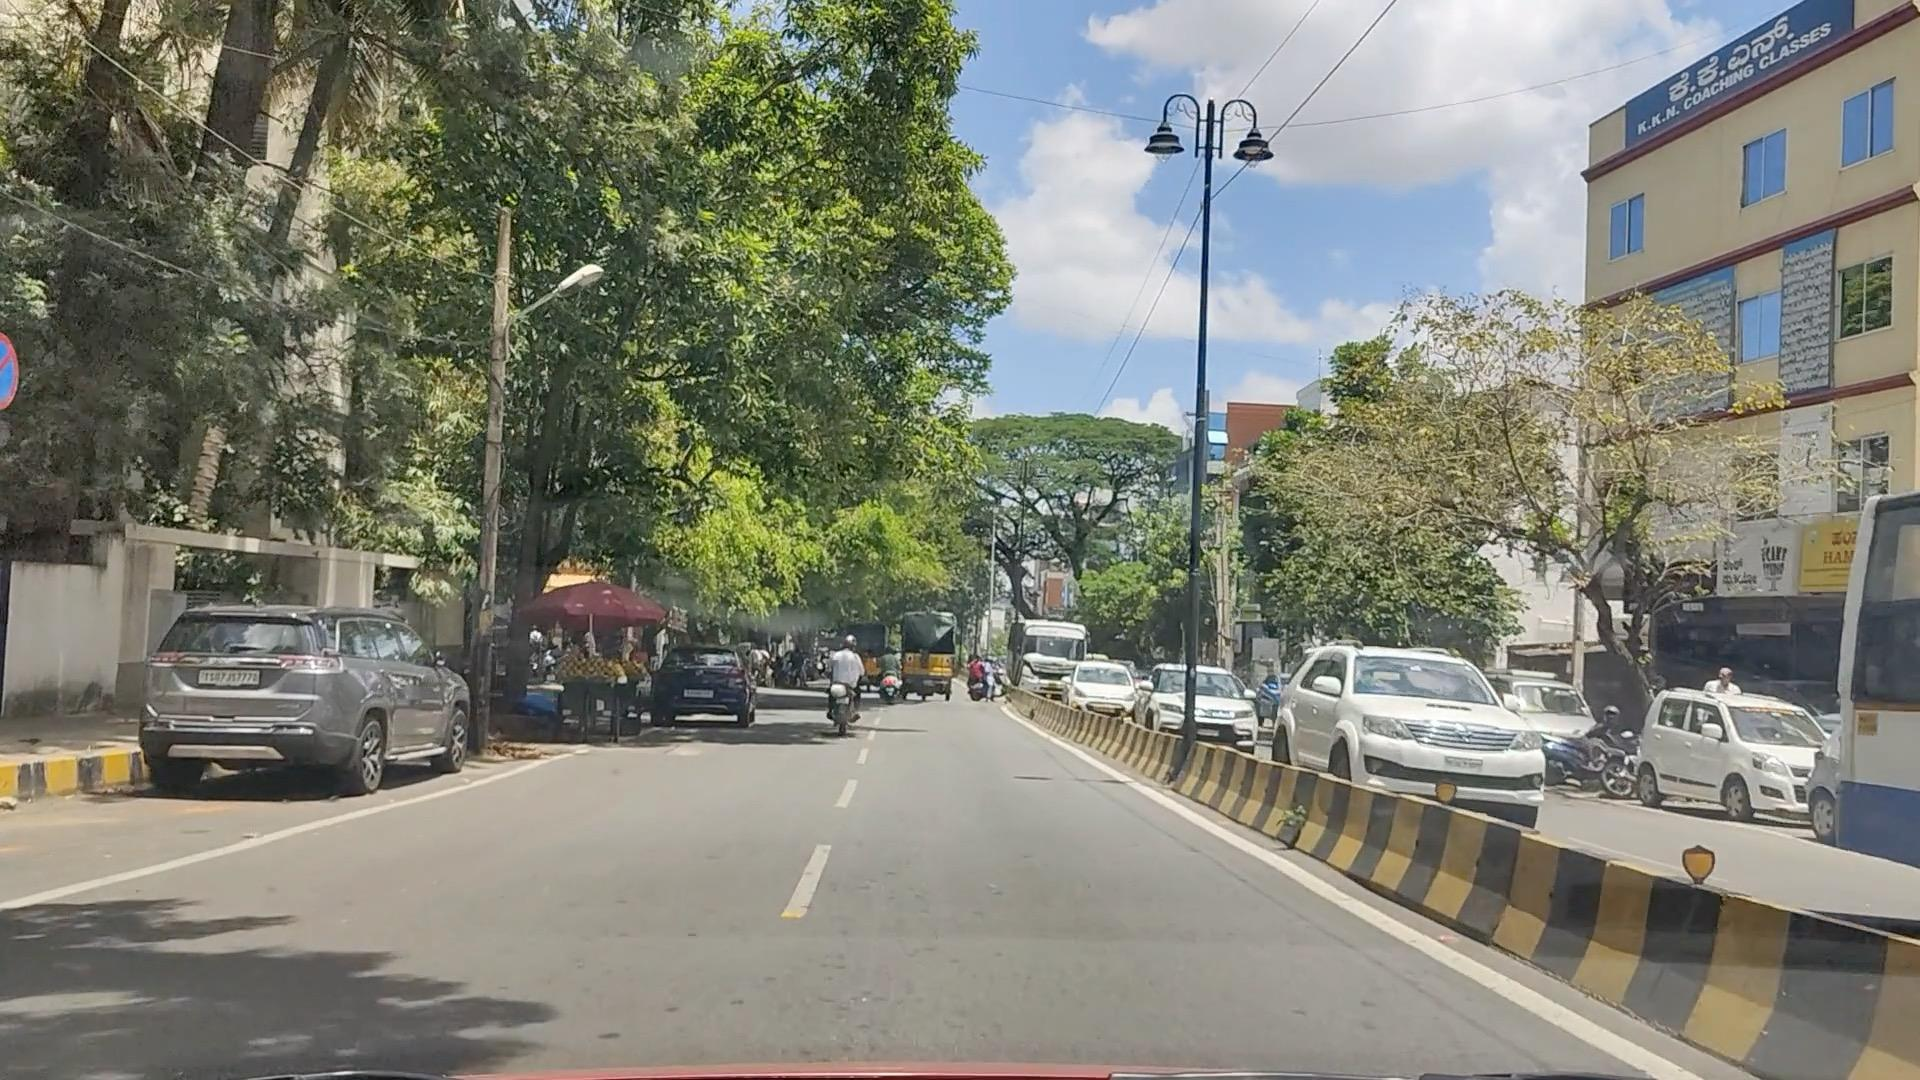LMV: (124, 600, 360, 762), (657, 650, 766, 723), (816, 640, 877, 729)
